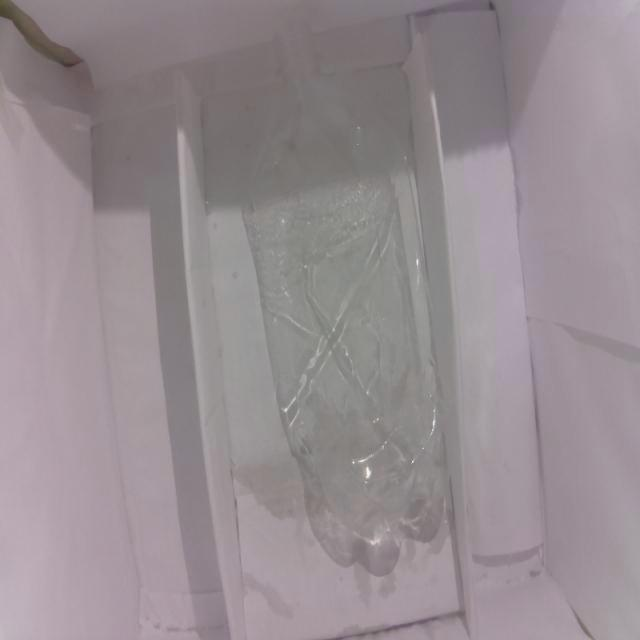bottle: (243, 20, 450, 544)
